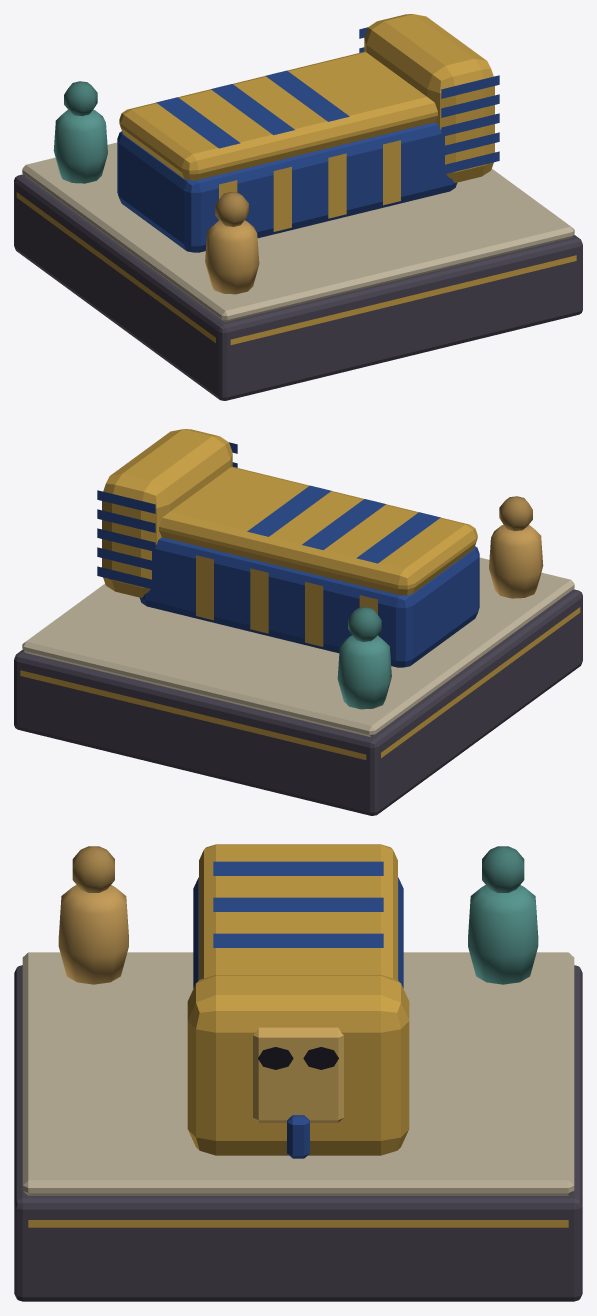
The model's file is museum-block.glb.
3 renders of one model, top to bottom at view 1: azimuth 30°, elevation 25°; view 2: azimuth 150°, elevation 25°; view 3: azimuth 270°, elevation 25°, orthographic. The views are drawn at different scales.
Parts seen in each view (by area): view 1: museum-block; view 2: museum-block; view 3: museum-block.
Boxes of the visible parts, <box> form: museum-block: <box>14,14,582,400</box>; museum-block: <box>14,429,582,815</box>; museum-block: <box>14,844,582,1301</box>.
Size of the model in its own units: 2 by 1.11 by 2.
